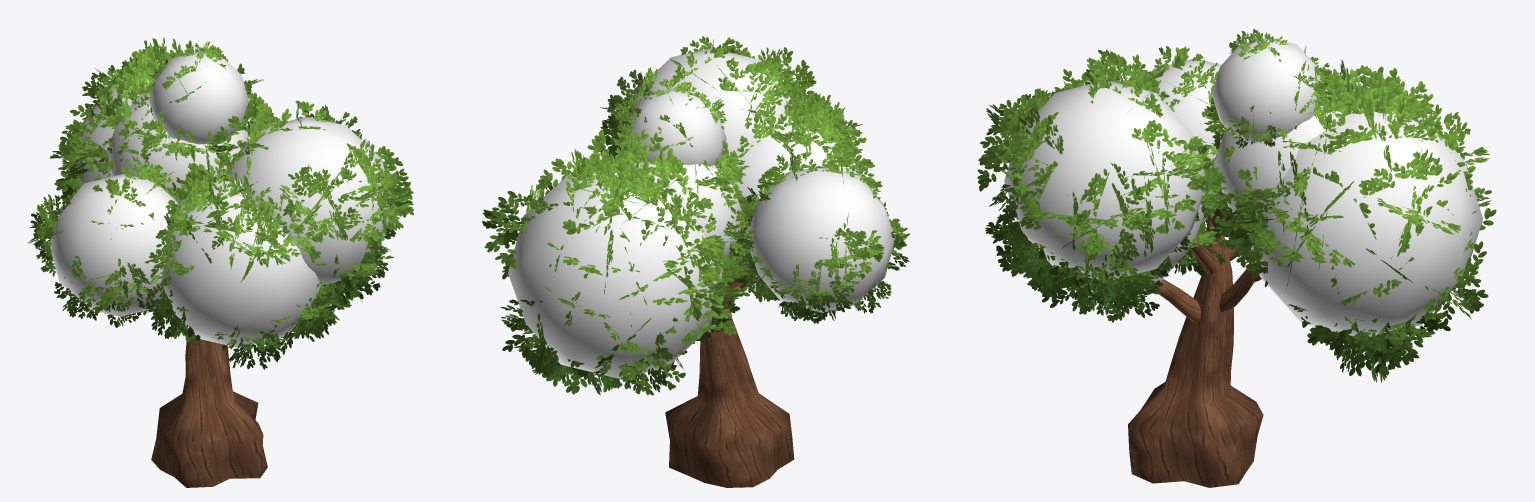
Rendered from cardtree_71924_s37585.gltf.
3 views of the same model, side by side, from view 1: azimuth 30°, elevation 25°; view 2: azimuth 150°, elevation 25°; view 3: azimuth 270°, elevation 25° (orthographic). The views are drawn at different scales.
Visible parts, largest first — view 1: cardtree_71924_s37585_shadow_LOD0, cardtree_71924_s37585_leaves_LOD0, cardtree_71924_s37585_trunk_LOD0; view 2: cardtree_71924_s37585_shadow_LOD0, cardtree_71924_s37585_leaves_LOD0, cardtree_71924_s37585_trunk_LOD0; view 3: cardtree_71924_s37585_shadow_LOD0, cardtree_71924_s37585_leaves_LOD0, cardtree_71924_s37585_trunk_LOD0.
Boxes of the visible parts, bbox=[...] form: cardtree_71924_s37585_shadow_LOD0: bbox=[49, 52, 392, 347]; cardtree_71924_s37585_leaves_LOD0: bbox=[28, 37, 413, 369]; cardtree_71924_s37585_trunk_LOD0: bbox=[151, 339, 267, 487]; cardtree_71924_s37585_shadow_LOD0: bbox=[508, 48, 895, 378]; cardtree_71924_s37585_leaves_LOD0: bbox=[482, 36, 909, 395]; cardtree_71924_s37585_trunk_LOD0: bbox=[665, 267, 794, 487]; cardtree_71924_s37585_shadow_LOD0: bbox=[1004, 38, 1482, 336]; cardtree_71924_s37585_leaves_LOD0: bbox=[977, 28, 1496, 382]; cardtree_71924_s37585_trunk_LOD0: bbox=[1128, 205, 1263, 487].
Size of what is drawn, in the model's own units: 9.09 by 10.13 by 11.41.
3 materials, 2 textured.
